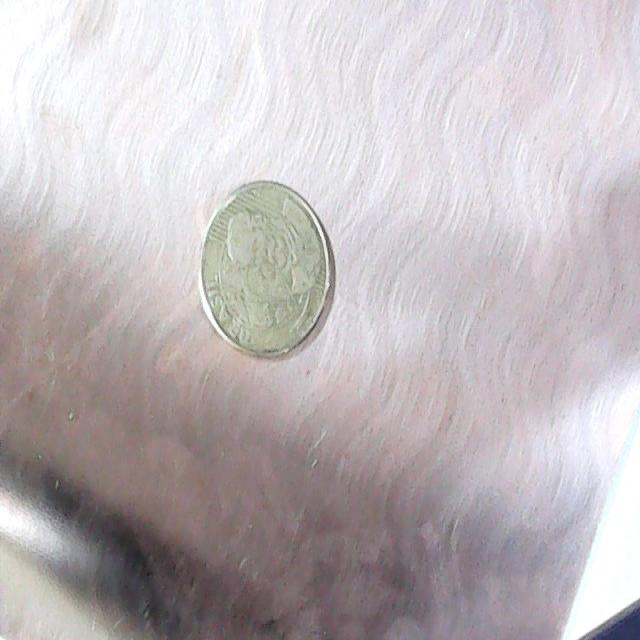25 cents: (186, 168, 339, 370)
